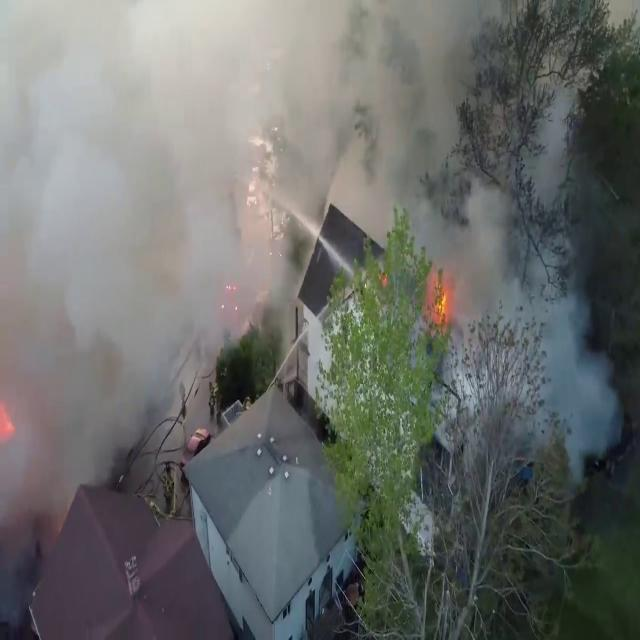Fire: (426, 264, 456, 336)
Smoke: (2, 0, 622, 478)
